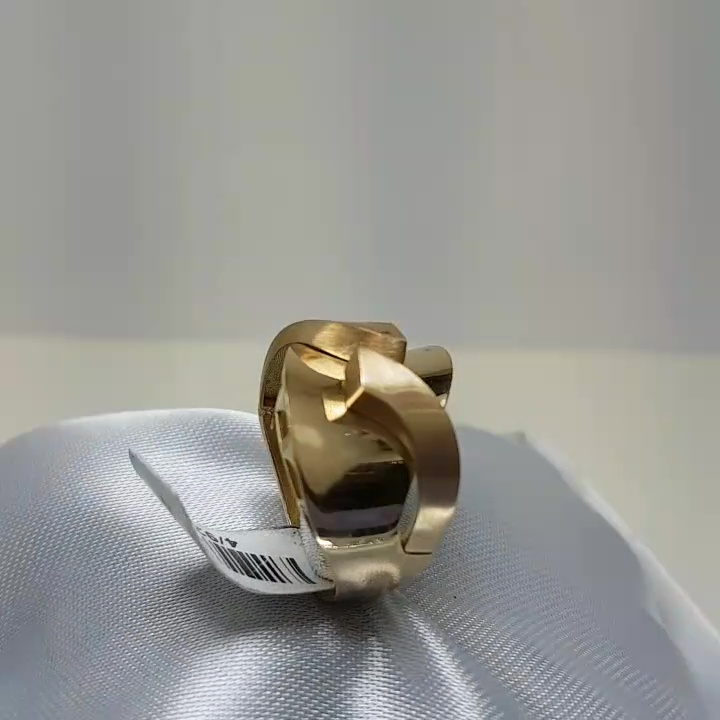Ring 4: (244, 284, 499, 605)
